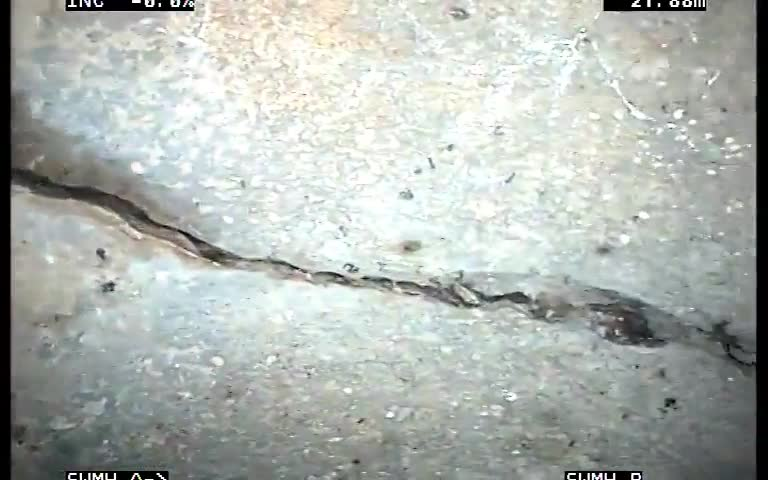Crack: (16, 118, 750, 397)
